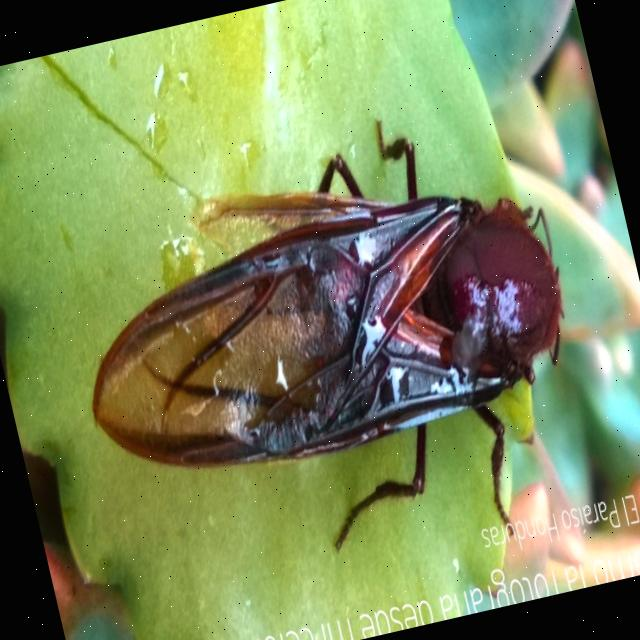Alive-Female-Alate: (43, 86, 616, 622)
